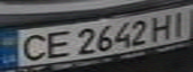2: (72, 25, 100, 56), (127, 16, 154, 46)
4: (112, 19, 136, 49)
6: (93, 21, 118, 53)
C: (12, 30, 51, 63)
E: (39, 27, 75, 61)
H: (148, 11, 178, 42)
I: (166, 7, 193, 37)
